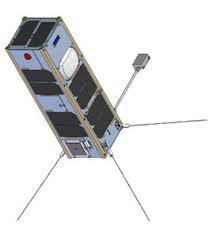antenna: (14, 152, 65, 224), (106, 147, 153, 224), (113, 51, 153, 114), (121, 117, 211, 131)
body: (3, 11, 125, 161)
solar: (65, 61, 101, 111), (84, 91, 117, 141), (8, 18, 59, 48), (20, 67, 67, 98), (44, 110, 92, 139)
